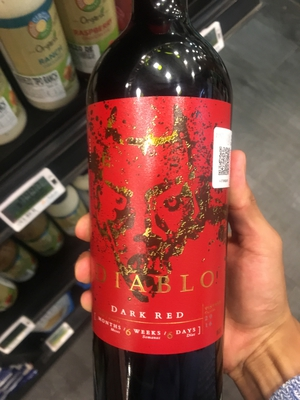diablo dark red: (61, 33, 247, 400)
